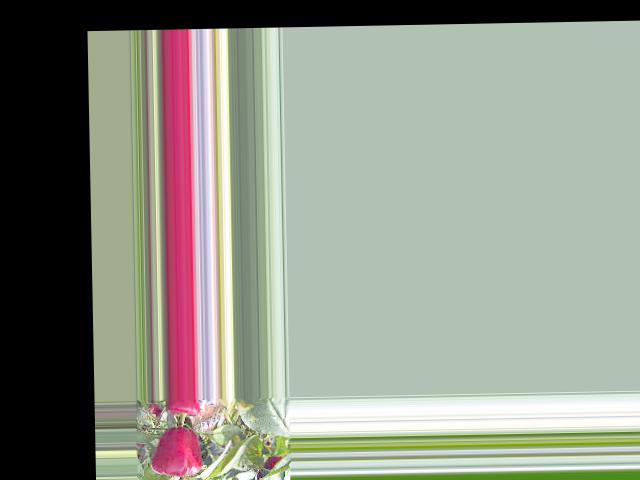bell_pepper: (163, 398, 203, 419)
